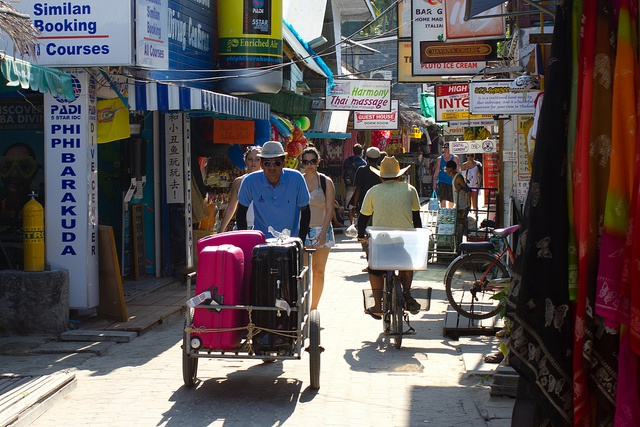non-vehicle: (442, 224, 519, 319), (367, 271, 416, 348)
